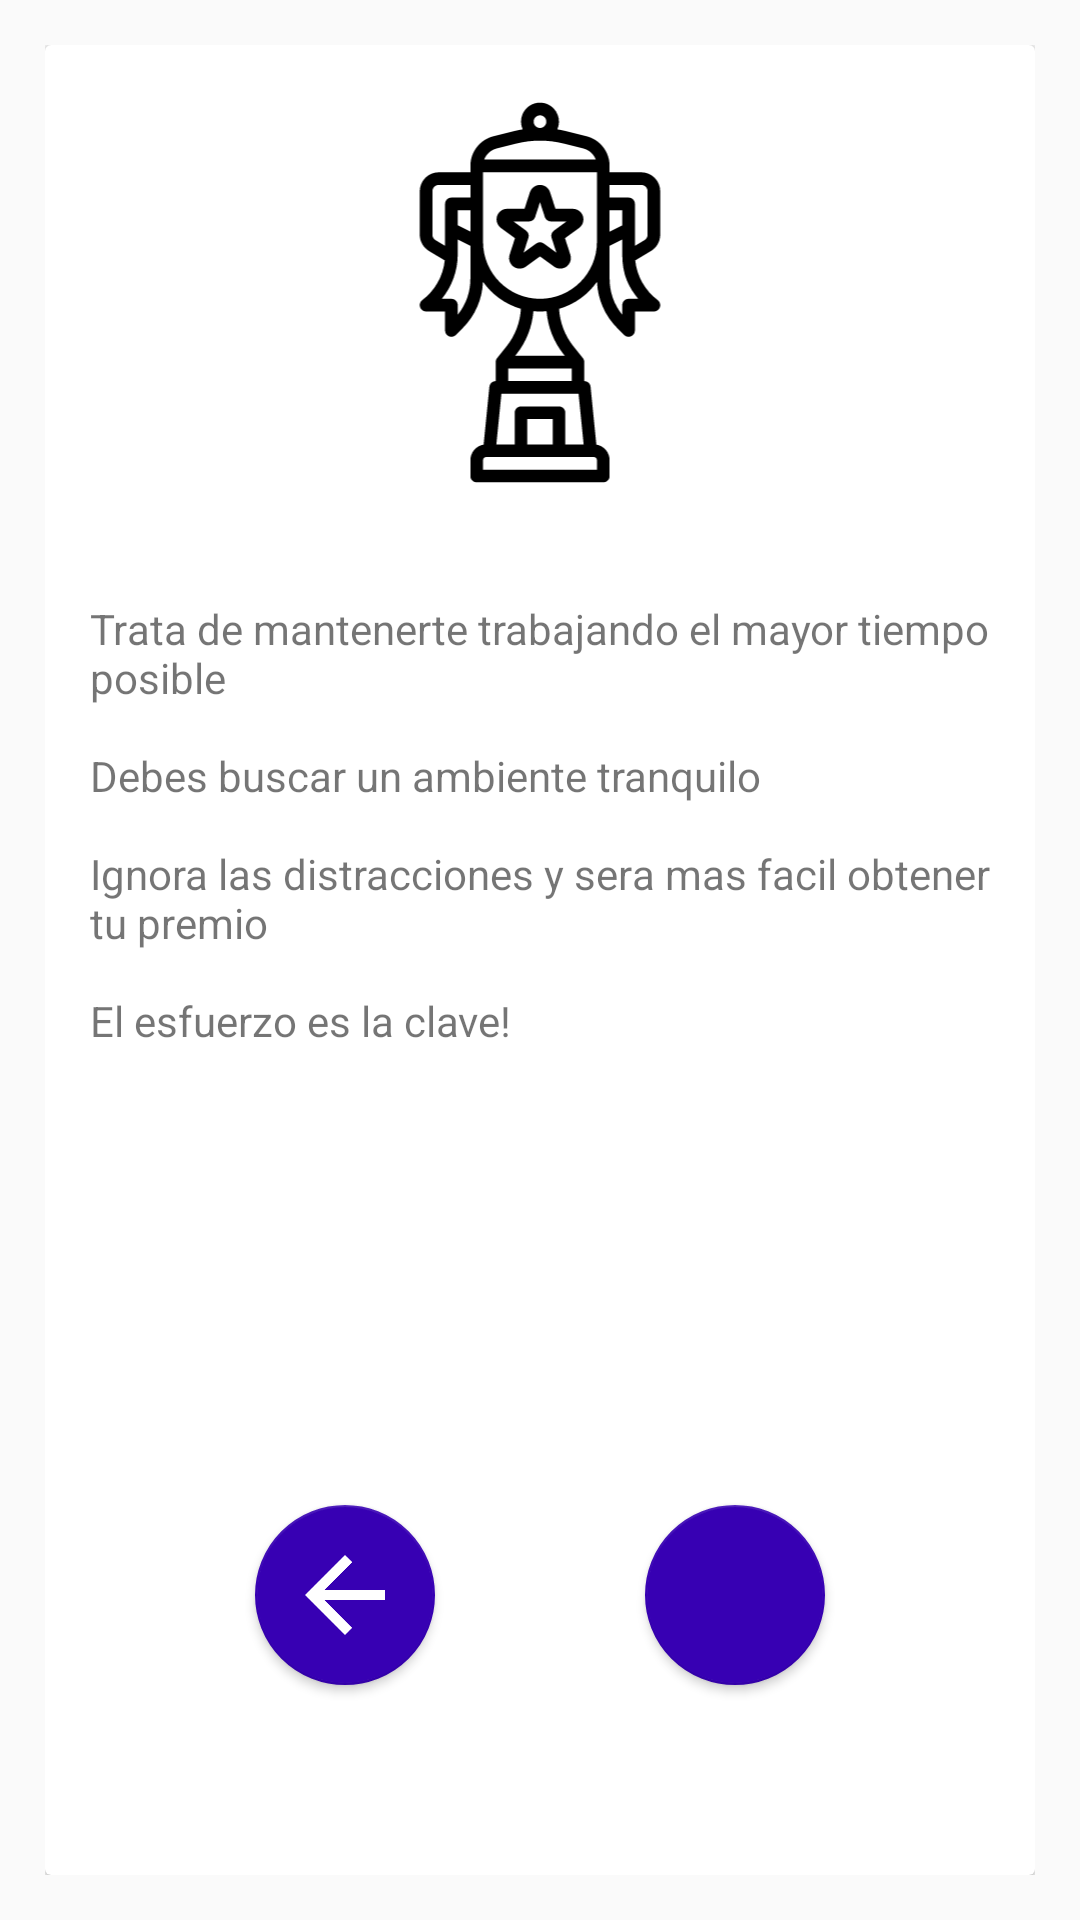

Named icons in this screenshot (1080 × 1920) and their bounding boxes, (x1, y1, x2, y2):
arrow back: (255, 1505, 435, 1685)
